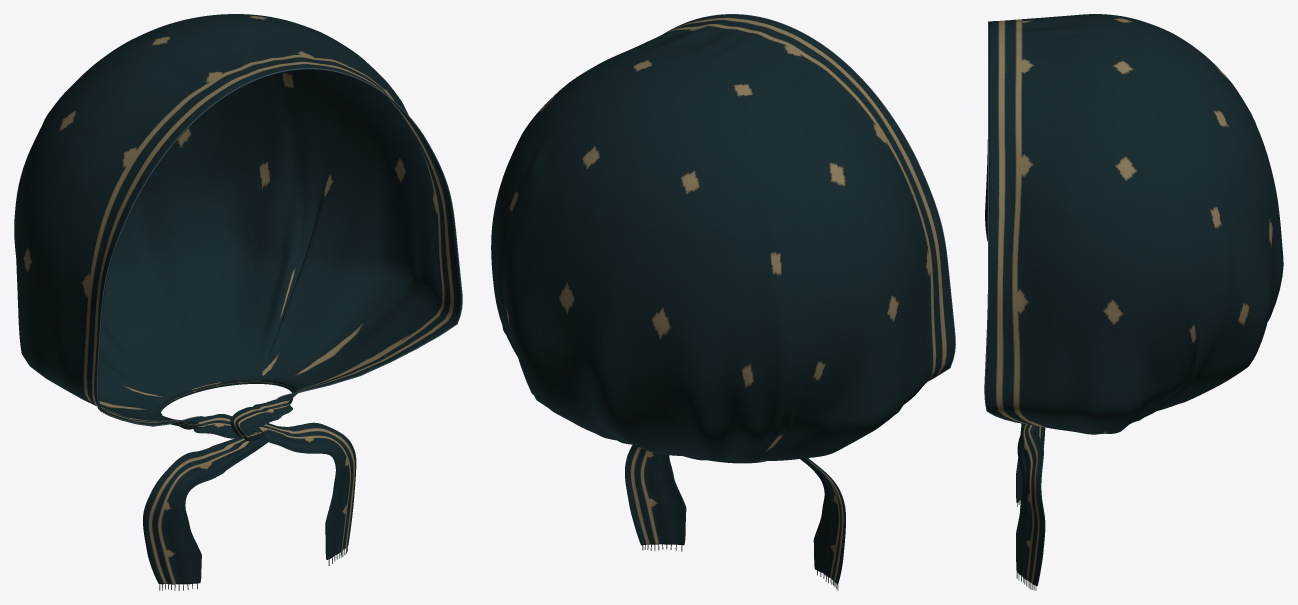
File: Masculine-tshirt-pashmina244-headgear.glb
The picture shows the model from 3 angles, left to right: view 1: azimuth 30°, elevation 25°; view 2: azimuth 150°, elevation 25°; view 3: azimuth 270°, elevation 25°; orthographic projection. The views are drawn at different scales.
Visible parts, largest first — view 1: 226 headgear / Headwear / continuous woven pashmina239, 226 headgear / Headwear / face edge239; view 2: 226 headgear / Headwear / continuous woven pashmina239, 226 headgear / Headwear / face edge239; view 3: 226 headgear / Headwear / continuous woven pashmina239, 226 headgear / Headwear / face edge239.
Part boxes in pixels (x1,y1,x2,y2): 226 headgear / Headwear / continuous woven pashmina239: [14, 14, 461, 584]; 226 headgear / Headwear / face edge239: [96, 68, 462, 426]; 226 headgear / Headwear / continuous woven pashmina239: [491, 14, 954, 584]; 226 headgear / Headwear / face edge239: [664, 14, 955, 381]; 226 headgear / Headwear / continuous woven pashmina239: [985, 14, 1283, 586]; 226 headgear / Headwear / face edge239: [984, 21, 1020, 423].
Bounding box in the file's own units: 1.03 × 1.35 × 0.7127.
3 materials, 1 textured.
